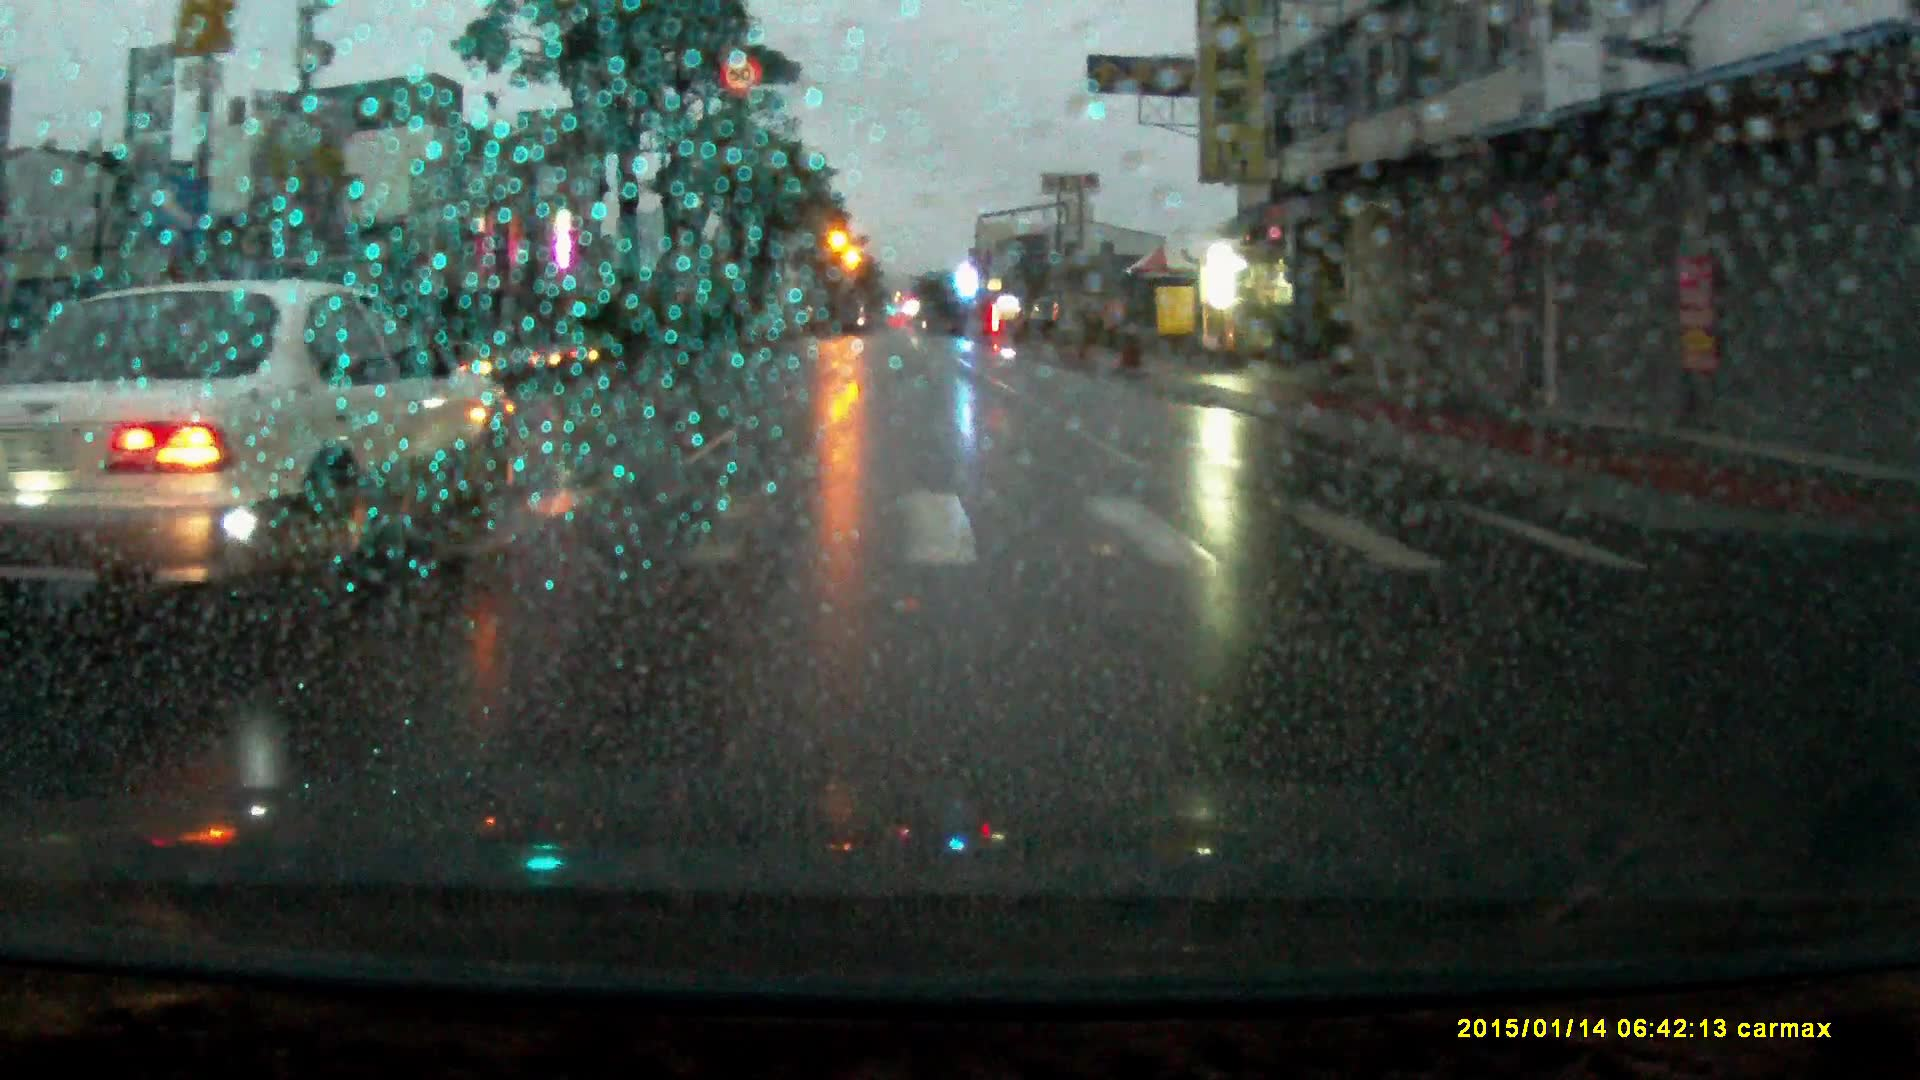vehicle: (1, 281, 526, 626)
